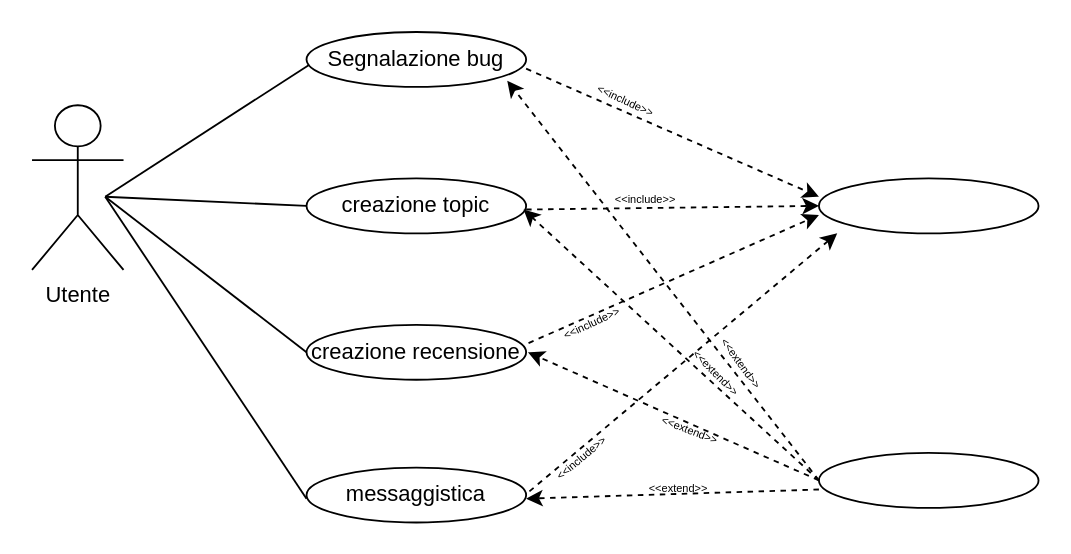
Image size: 1071x554. Some labels were removed from this diagram. Here are the shapes that lost their labels. From the top down, the box of each, then its label:
(817, 177, 1039, 233): controllo permessi
(817, 451, 1039, 508): missing field
